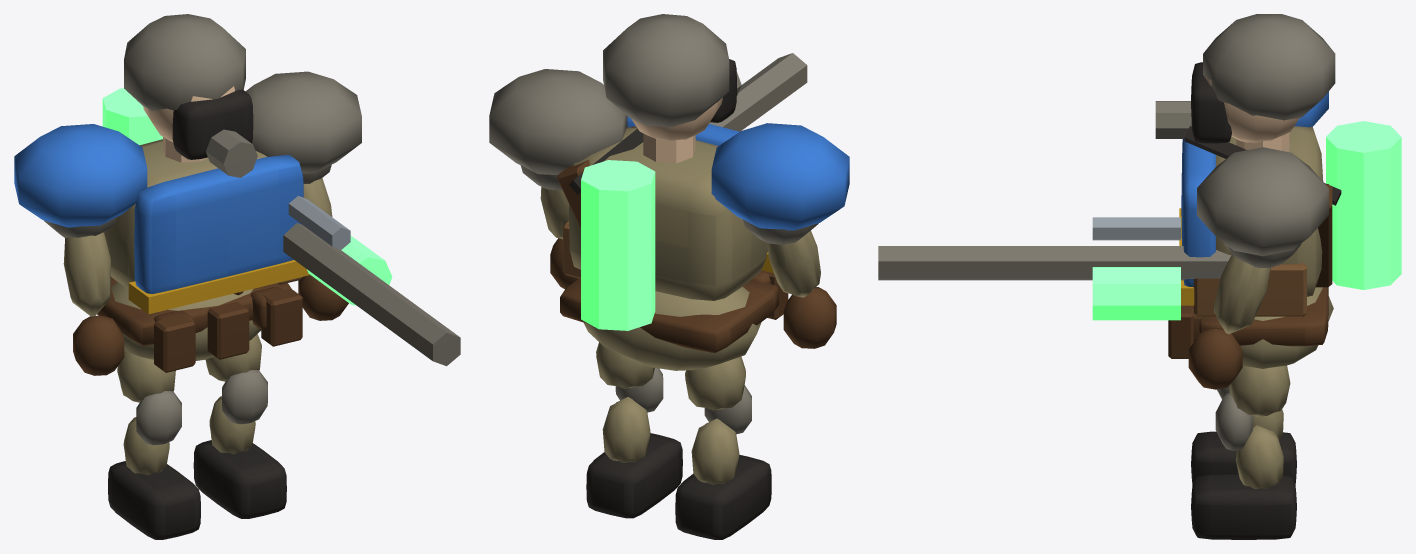
File: auxiliaire.glb
3 renders of one model, left to right at view 1: azimuth 30°, elevation 25°; view 2: azimuth 150°, elevation 25°; view 3: azimuth 270°, elevation 25°, orthographic. The views are drawn at different scales.
Parts seen in each view (by area): view 1: auxiliaire, leg_l, leg_r, arm_l, arm_r; view 2: auxiliaire, leg_l, leg_r, arm_l, arm_r; view 3: auxiliaire, leg_r, arm_r, leg_l.
Boxes of the visible parts, x1=… form: auxiliaire: x1=14, y1=14, x2=460, y2=372; leg_l: x1=108, y1=351, x2=200, y2=539; leg_r: x1=193, y1=334, x2=286, y2=518; arm_l: x1=44, y1=217, x2=124, y2=375; arm_r: x1=298, y1=164, x2=348, y2=320; auxiliaire: x1=489, y1=14, x2=849, y2=370; leg_l: x1=675, y1=356, x2=771, y2=539; leg_r: x1=586, y1=342, x2=682, y2=518; arm_l: x1=743, y1=219, x2=836, y2=348; arm_r: x1=520, y1=165, x2=578, y2=288; auxiliaire: x1=878, y1=14, x2=1401, y2=368; leg_r: x1=1191, y1=365, x2=1296, y2=539; arm_r: x1=1188, y1=243, x2=1301, y2=389; leg_l: x1=1191, y1=386, x2=1296, y2=484.
Bounding box in the file's own units: 0.6302 × 0.8581 × 0.83.
